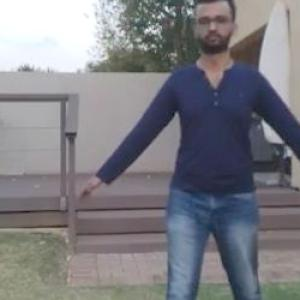land: (100, 17, 298, 299)
